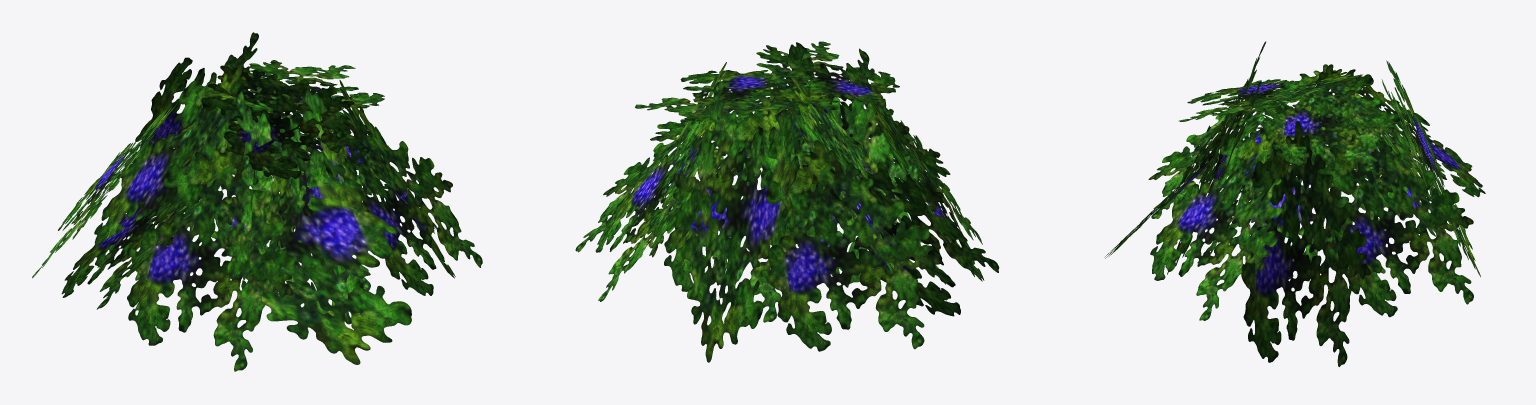
Rendered from bush_grapes.dae.
3 renders of one model, left to right at view 1: azimuth 30°, elevation 25°; view 2: azimuth 150°, elevation 25°; view 3: azimuth 270°, elevation 25°, orthographic. The views are drawn at different scales.
Parts seen in each view (by area): view 1: wrld_foragebush_a01; view 2: wrld_foragebush_a01; view 3: wrld_foragebush_a01.
Boxes of the visible parts, x1,y1,x2,y2 form: wrld_foragebush_a01: [32, 32, 482, 371]; wrld_foragebush_a01: [575, 41, 999, 362]; wrld_foragebush_a01: [1104, 41, 1485, 366].
Size of the model in its own units: 5.93 by 6.07 by 3.73.
Materials: 1 (1 with a texture image).
